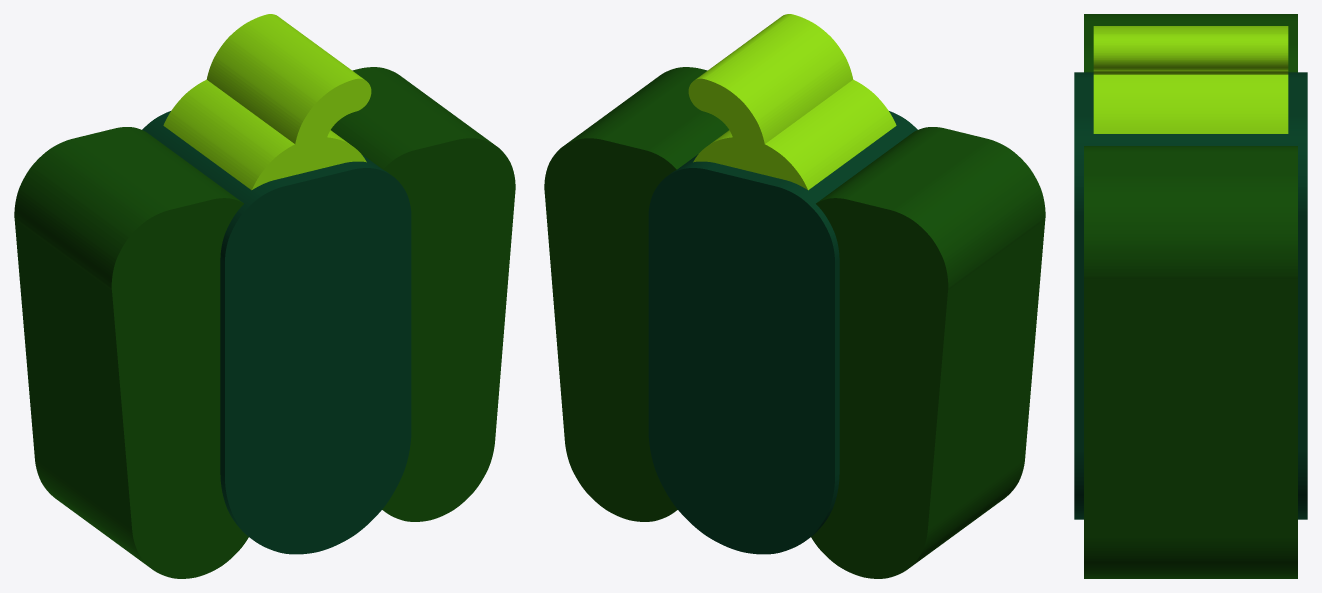
The model's file is U+1FAD1.obj.
3 renders of one model, left to right at view 1: azimuth 30°, elevation 25°; view 2: azimuth 150°, elevation 25°; view 3: azimuth 270°, elevation 25°, orthographic. The views are drawn at different scales.
Parts seen in each view (by area): view 1: U+1FAD1_layer01_obj00, U+1FAD1_layer02_obj00, U+1FAD1_layer00_obj00; view 2: U+1FAD1_layer01_obj00, U+1FAD1_layer02_obj00, U+1FAD1_layer00_obj00; view 3: U+1FAD1_layer01_obj00, U+1FAD1_layer00_obj00, U+1FAD1_layer02_obj00.
Boxes of the visible parts, x1,y1,x2,y2 form: U+1FAD1_layer01_obj00: (14,67,515,578); U+1FAD1_layer02_obj00: (142,111,411,554); U+1FAD1_layer00_obj00: (163,14,371,190); U+1FAD1_layer01_obj00: (544,67,1045,578); U+1FAD1_layer02_obj00: (648,111,917,554); U+1FAD1_layer00_obj00: (688,14,896,190); U+1FAD1_layer01_obj00: (1084,14,1297,578); U+1FAD1_layer00_obj00: (1093,26,1288,133); U+1FAD1_layer02_obj00: (1074,72,1307,519).
Size of the model in its own units: 0.5272 by 0.5677 by 0.24.
